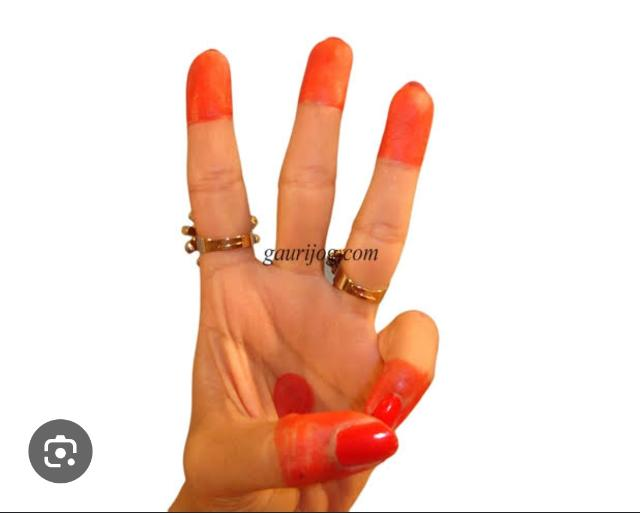trishool: (176, 39, 439, 511)
